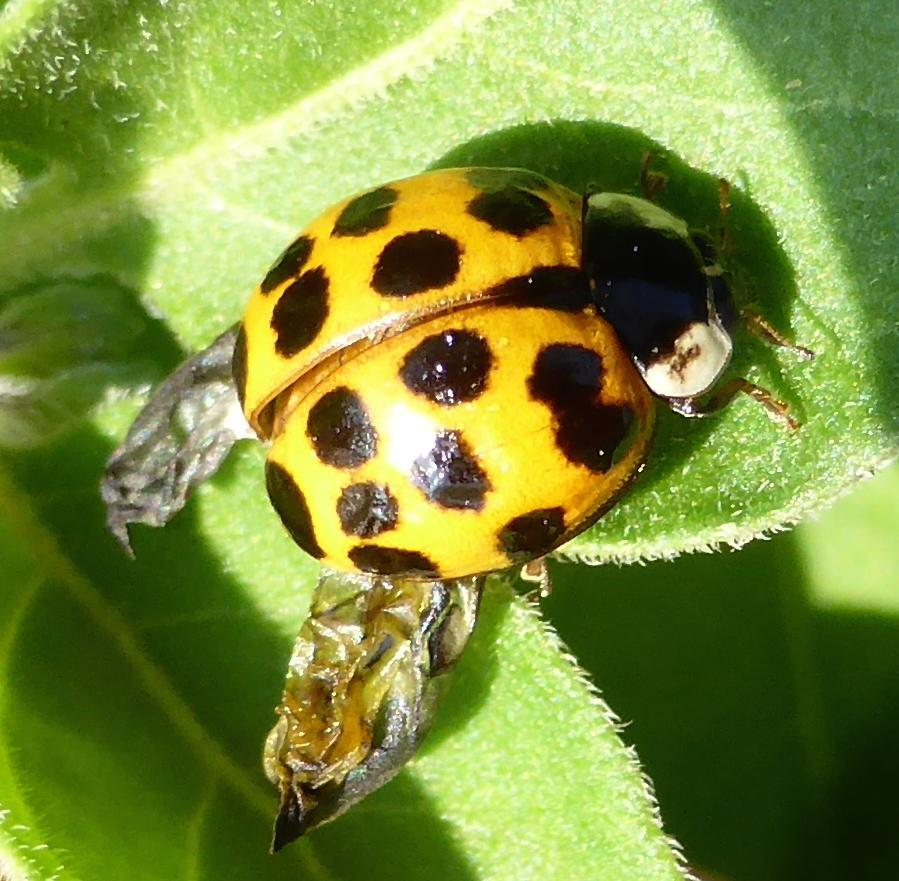ladybug: (101, 144, 824, 859)
